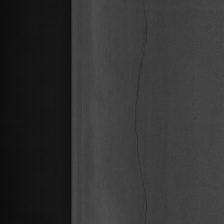inclusion: (129, 6, 160, 212)
